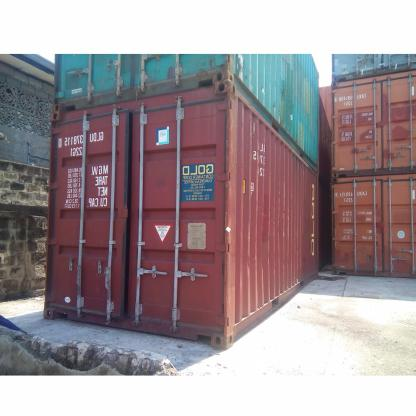Damage: (238, 238, 275, 272)
